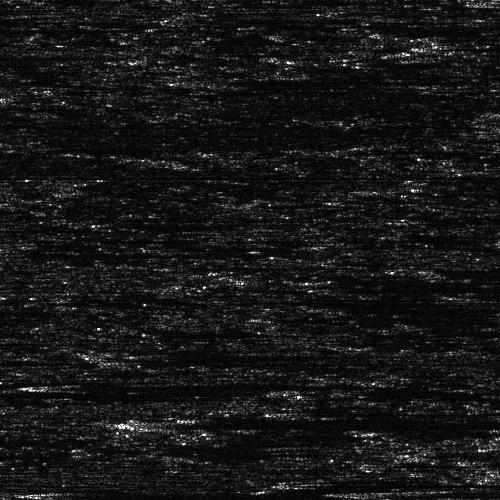rock: (303, 488, 428, 499), (86, 415, 191, 428), (172, 77, 245, 86), (10, 380, 83, 389), (233, 408, 326, 415), (145, 264, 208, 271), (0, 491, 45, 500), (0, 249, 18, 258)
shadow: (139, 415, 500, 428), (0, 491, 330, 500), (0, 249, 289, 258), (209, 77, 452, 86), (366, 488, 500, 499), (0, 48, 85, 65), (280, 408, 450, 415), (47, 380, 125, 389), (177, 264, 255, 271), (0, 25, 90, 30), (0, 358, 50, 363)
